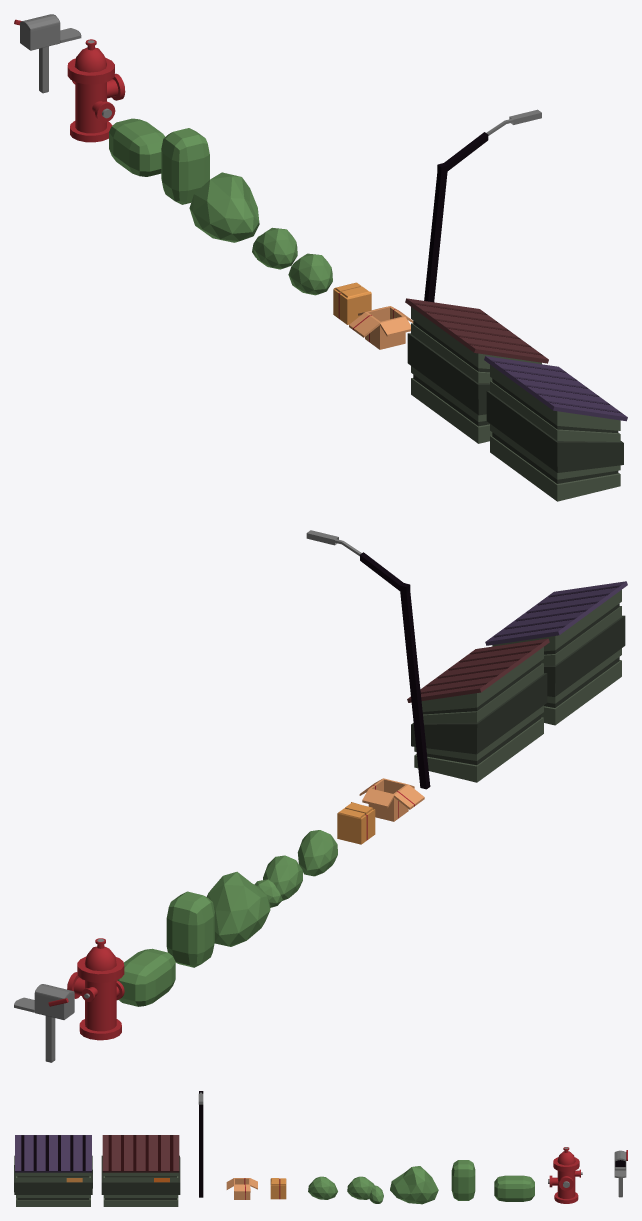
The model's file is Ulica.fbx.
3 renders of one model, top to bottom at view 1: azimuth 30°, elevation 25°; view 2: azimuth 150°, elevation 25°; view 3: azimuth 270°, elevation 25°, orthographic. The views are drawn at different scales.
Visible parts, largest first — view 1: Cube, Cube.002, Cylinder, Cube.003, Cube.001, Icosphere.002, Cube.007, Cube.008, Cube.004, Cube.009, Cube.005, Icosphere.001 (+2 smaller); view 2: Cube.002, Cube, Cylinder, Cube.001, Cube.003, Icosphere.002, Cube.007, Cube.004, Cube.008, Cube.009, Cube.005, Icosphere.001 (+2 smaller); view 3: Cube.003, Cube.001, Cube.002, Cube, Icosphere.002, Cylinder, Cube.008, Cube.007, Icosphere.001, Cube.004, Icosphere, Cube.005 (+2 smaller).
Part boxes in pixels (left/top/right/bottom): Cube: left=486, top=364, right=623, bottom=501; Cube.002: left=407, top=307, right=541, bottom=443; Cylinder: left=67, top=39, right=125, bottom=142; Cube.003: left=405, top=298, right=548, bottom=363; Cube.001: left=484, top=356, right=627, bottom=421; Icosphere.002: left=189, top=172, right=259, bottom=242; Cube.007: left=161, top=128, right=209, bottom=204; Cube.008: left=109, top=118, right=165, bottom=176; Cube.004: left=424, top=109, right=541, bottom=302; Cube.009: left=14, top=14, right=81, bottom=93; Cube.005: left=349, top=306, right=413, bottom=349; Icosphere.001: left=252, top=227, right=297, bottom=269; Cube.002: left=411, top=647, right=547, bottom=782; Cube: left=492, top=590, right=625, bottom=725; Cylinder: left=67, top=938, right=124, bottom=1040; Cube.001: left=485, top=581, right=627, bottom=645; Cube.003: left=407, top=638, right=549, bottom=702; Icosphere.002: left=206, top=871, right=270, bottom=946; Cube.007: left=166, top=891, right=214, bottom=967; Cube.004: left=306, top=530, right=430, bottom=789; Cube.008: left=117, top=948, right=175, bottom=1006; Cube.009: left=14, top=984, right=74, bottom=1062; Cube.005: left=359, top=778, right=424, bottom=821; Icosphere.001: left=254, top=855, right=302, bottom=907; Cube.003: left=102, top=1135, right=179, bottom=1172; Cube.001: left=15, top=1135, right=91, bottom=1172; Cube.002: left=101, top=1155, right=180, bottom=1206; Cube: left=14, top=1155, right=92, bottom=1206; Icosphere.002: left=390, top=1166, right=438, bottom=1204; Cylinder: left=548, top=1147, right=582, bottom=1203; Cube.008: left=494, top=1175, right=534, bottom=1201; Cube.007: left=451, top=1160, right=475, bottom=1200; Icosphere.001: left=347, top=1176, right=383, bottom=1203; Cube.004: left=198, top=1091, right=203, bottom=1197; Icosphere: left=308, top=1176, right=337, bottom=1199; Cube.005: left=226, top=1178, right=257, bottom=1199.
Bounding box in the file's own units: 488 × 725 × 3026.
